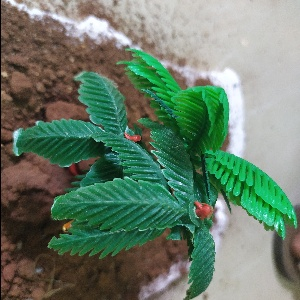plant: (15, 48, 292, 293)
